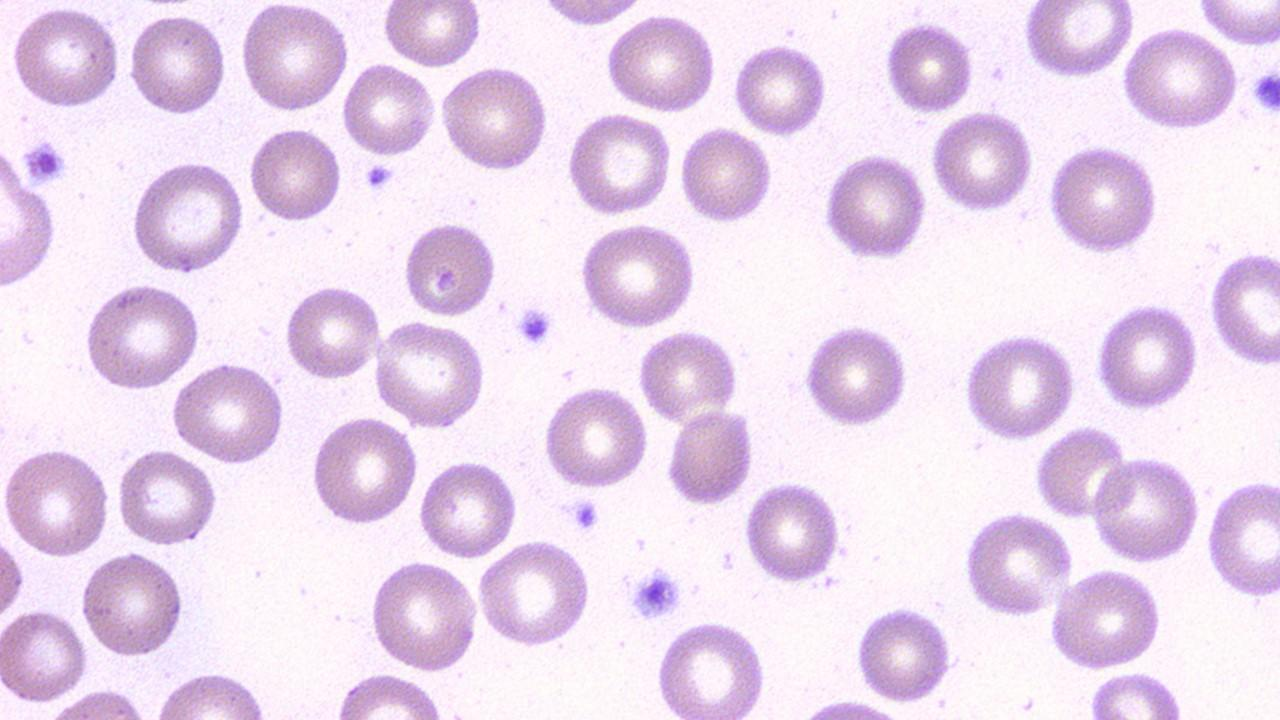Platelets: (628, 566, 682, 624), (19, 136, 69, 185), (515, 302, 556, 348), (1250, 69, 1280, 118), (572, 495, 602, 533), (363, 161, 396, 190)
RBC: (128, 157, 247, 276), (365, 556, 480, 674), (1045, 140, 1161, 256), (960, 328, 1079, 441), (576, 221, 700, 329), (82, 281, 202, 392), (475, 538, 593, 650), (371, 319, 489, 429), (1118, 27, 1240, 132), (0, 446, 114, 558), (1090, 453, 1204, 564), (6, 5, 124, 112), (308, 414, 420, 526), (1046, 566, 1166, 670), (819, 150, 929, 263), (437, 65, 552, 173), (169, 360, 288, 464), (1093, 299, 1203, 411), (240, 2, 350, 114), (960, 510, 1074, 618), (78, 548, 188, 659), (602, 11, 720, 114), (799, 322, 912, 428), (653, 618, 772, 718), (564, 110, 673, 218), (927, 108, 1037, 213), (540, 385, 650, 490), (742, 480, 846, 586), (416, 457, 522, 560), (850, 602, 957, 704), (126, 11, 227, 119), (113, 447, 220, 548), (636, 328, 742, 426), (281, 281, 381, 384), (244, 124, 344, 224), (676, 125, 775, 226), (1032, 421, 1130, 522), (1204, 472, 1280, 602), (731, 40, 830, 139), (401, 219, 499, 318), (338, 62, 438, 158), (882, 17, 978, 116), (0, 604, 91, 707), (663, 407, 755, 508), (1, 139, 60, 296), (1021, 3, 1137, 80), (1207, 246, 1279, 367), (380, 1, 480, 68), (151, 669, 274, 718), (330, 671, 452, 718), (1084, 670, 1186, 718), (1195, 0, 1279, 48), (0, 522, 26, 630)
WBC: (685, 0, 1280, 720)
